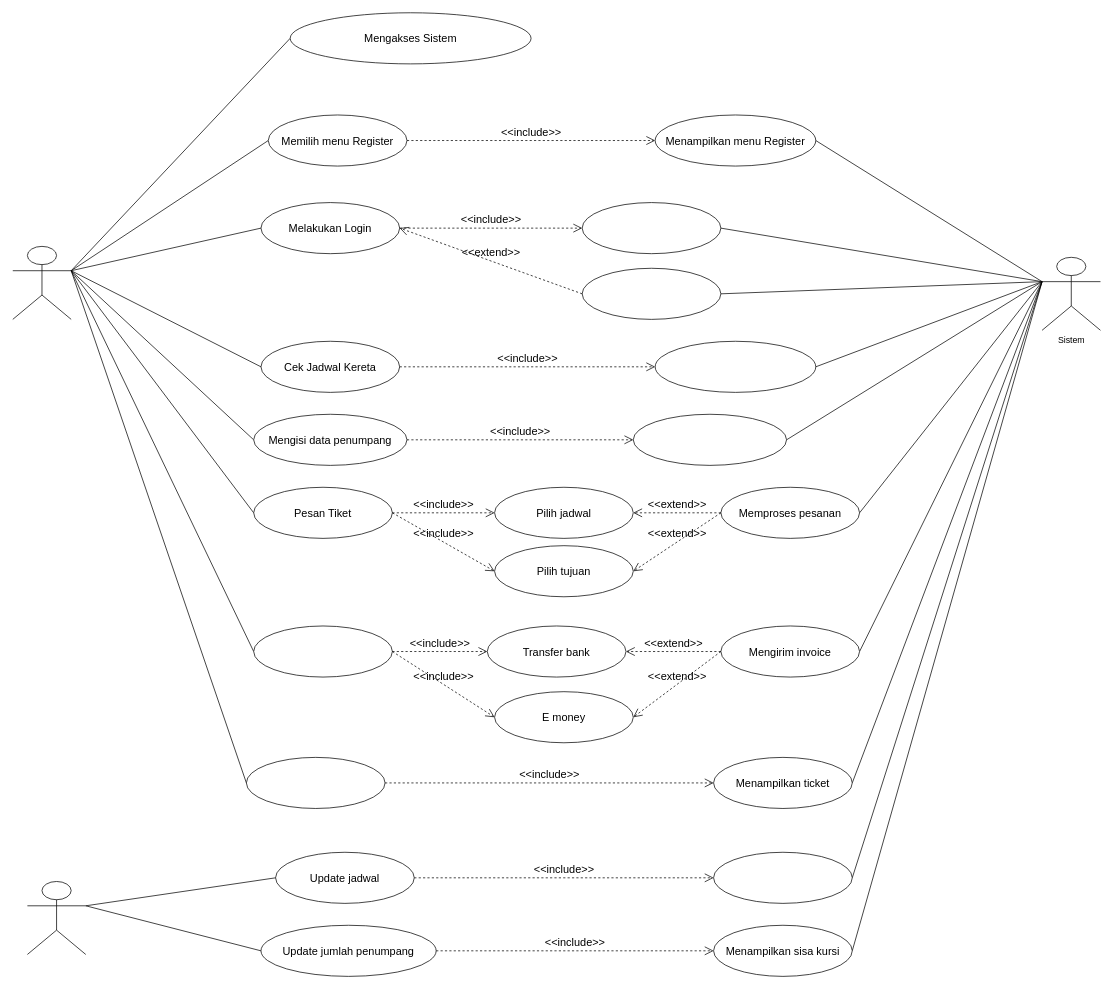
This 1113x989 diagram has some shape labels left out. Each missing label, with the centre of its shape:
"Admin KAI" goes at (x=56, y=917).
"Menampilkan error Login" goes at (x=651, y=293).
"Menampilkan jadwal keberangkatan" goes at (x=782, y=877).
"Menampilkan jadwal kereta" goes at (x=735, y=366).
"Mencetak ticket" goes at (x=315, y=782).
"Pilih metode pembayaran" goes at (x=322, y=651).
"User" goes at (x=41, y=282).
"Verifikasi data penumpang" goes at (x=710, y=439).
"Verifikasi Password" goes at (x=651, y=228).
